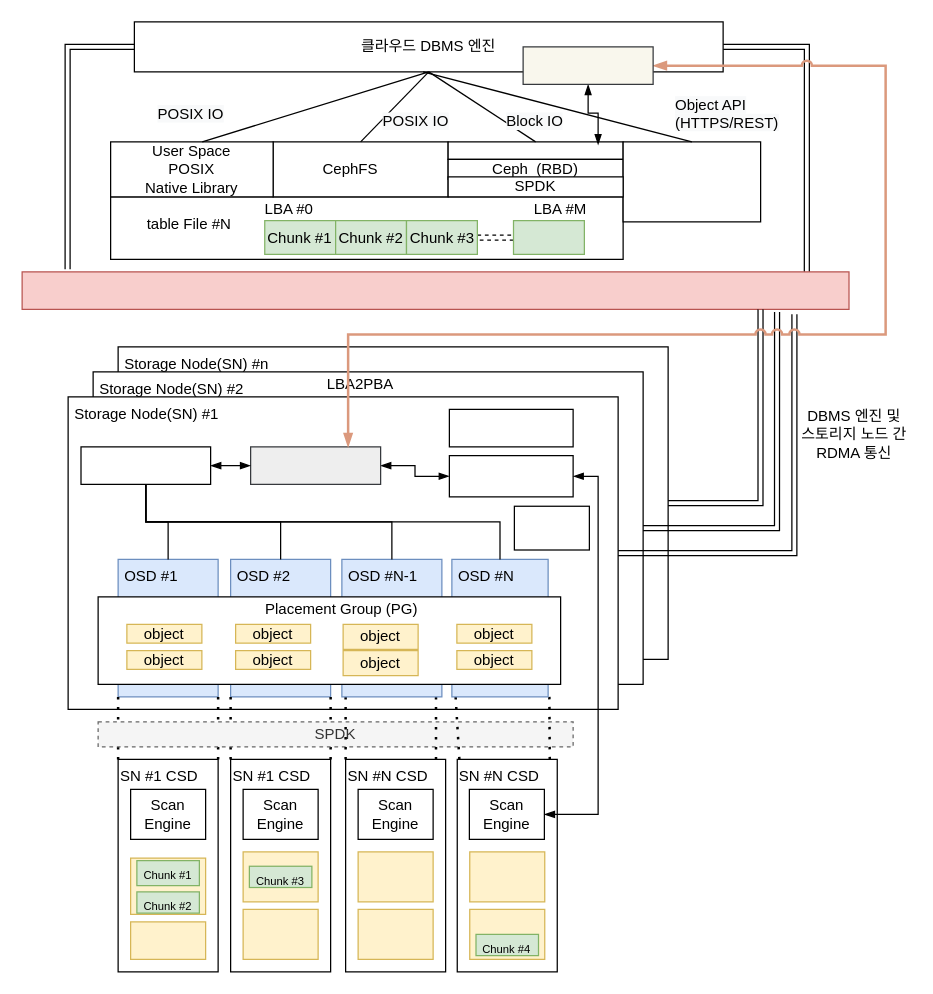
Image size: 933x994. Some labels were removed from this diagram. Each missing label, with the centre of its shape:
"Buffer Manager" belongs at (551,527).
"Chunk #N" belongs at (548,236).
"Cluster Manager" belongs at (145,465).
"EXT4 / XFS" belongs at (535,150).
"Infiniband / Ethernet Network (RDMA/TCP)" belongs at (435,290).
"LBA2PBA Query Agent" belongs at (587,65).
"LBA2PBA Query Daemon" belongs at (315,465).
"Object API (S3)" belongs at (691,181).
"Query Engine" belongs at (510,427).
"Storage Engine" belongs at (510,475).
